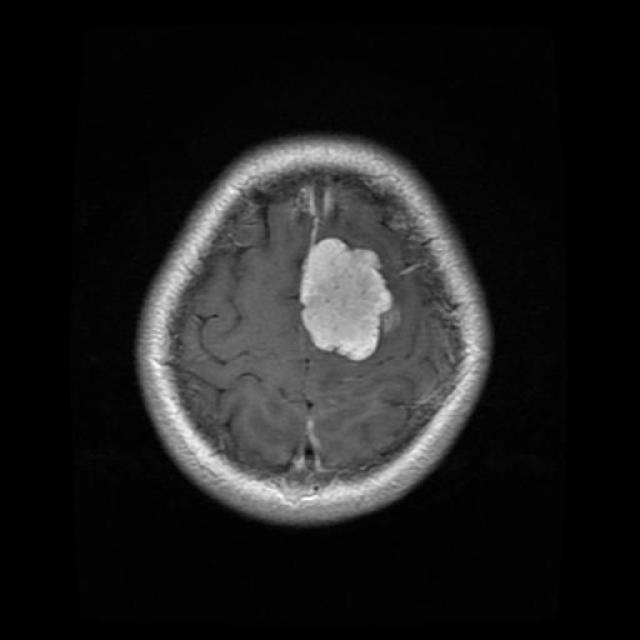meningioma: (300, 238, 392, 361)
